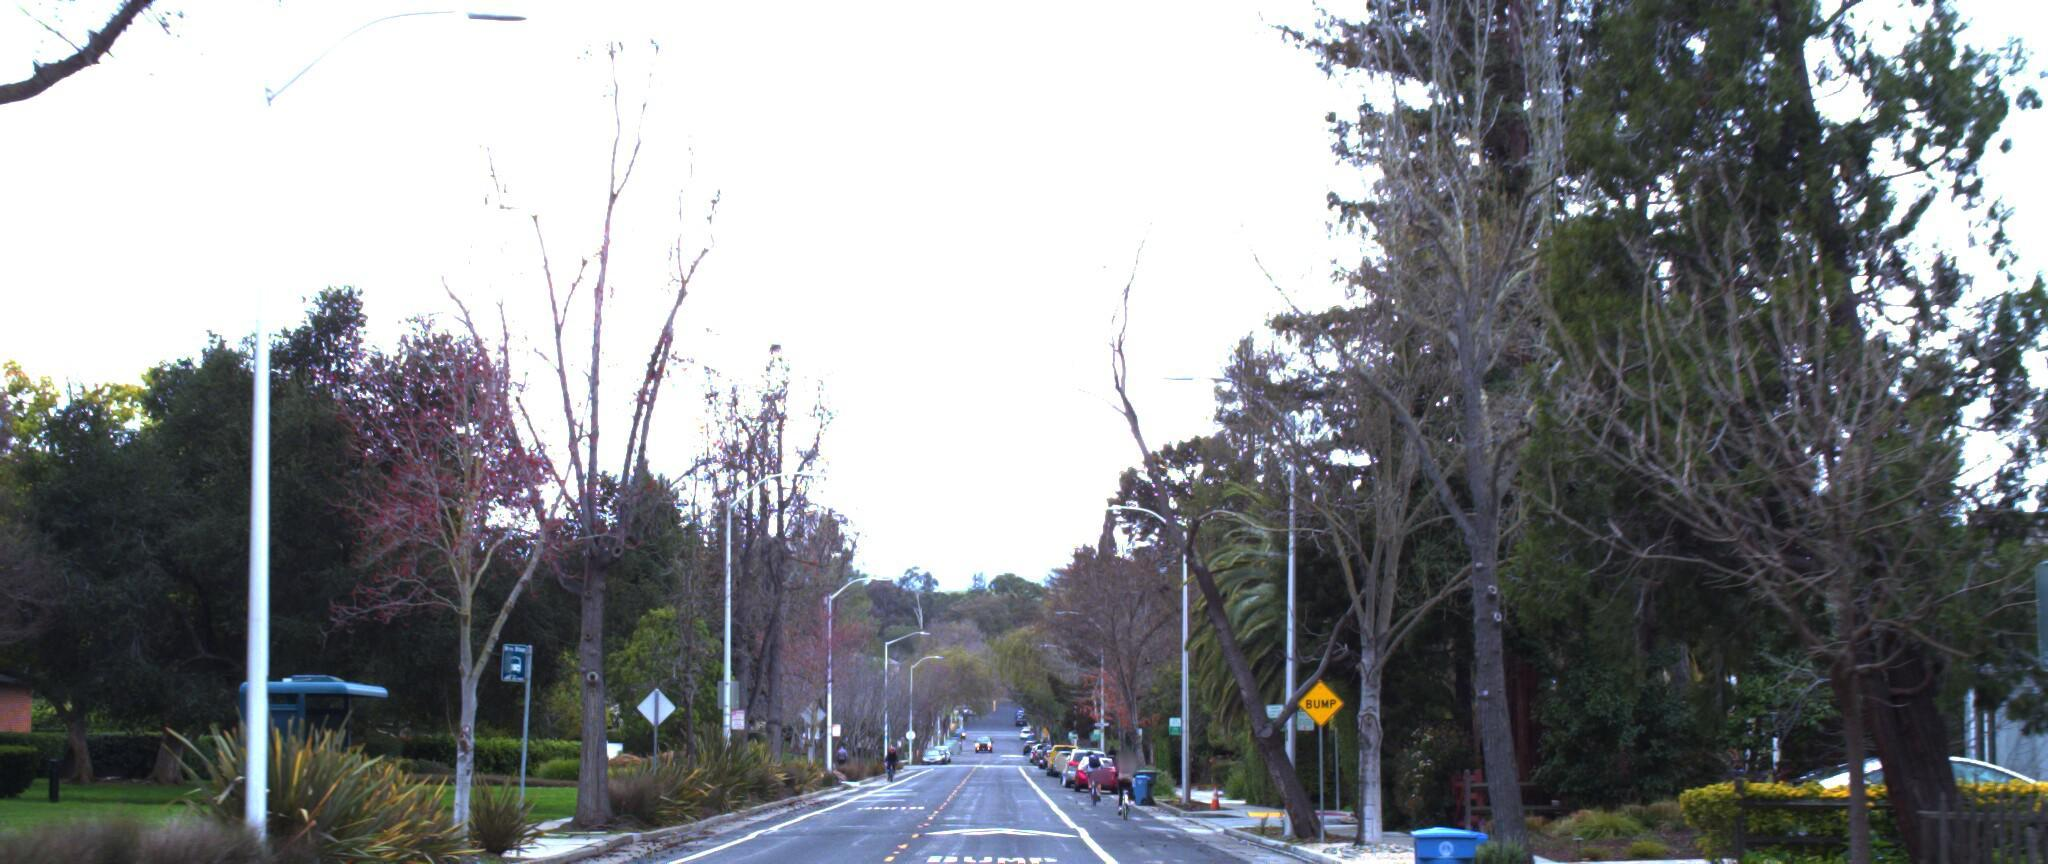bicycle: (1928, 579, 2048, 864), (1112, 754, 1148, 830)
